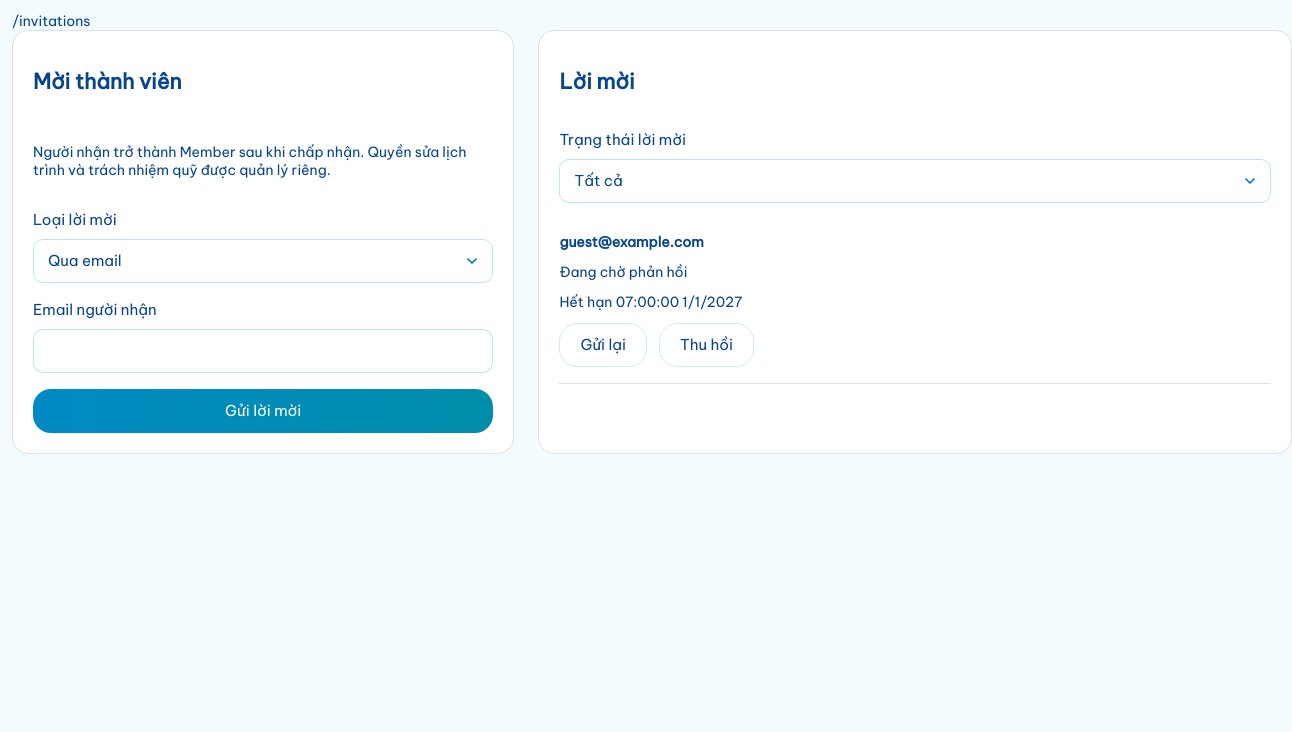
Test: Owner invitation management › retrying unknown creation retains the exact intent and reports an unrecoverable LINK
This screenshot has width=1292, height=732.
Select "Bằng liên kết" in the dropdown labelled "Loại lời mời" at coordinates (263, 261), box [33, 239, 493, 283]
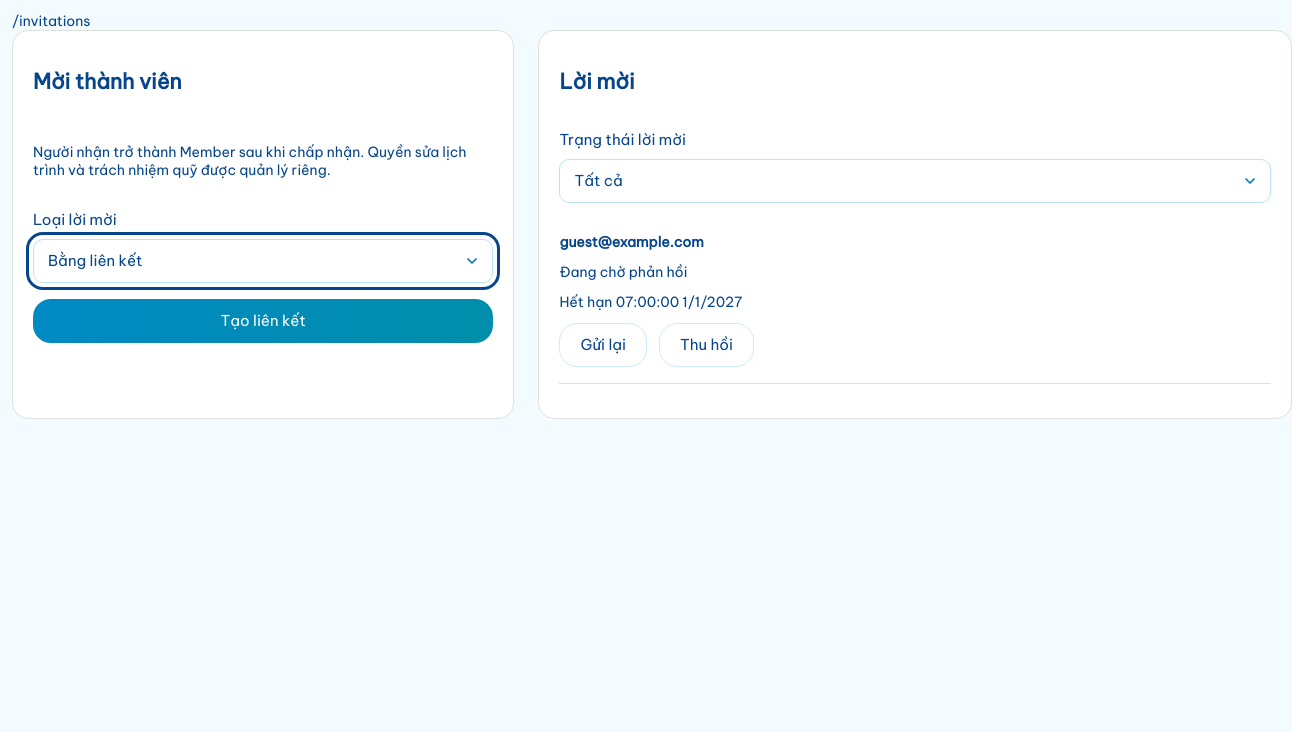
Click the button "Tạo liên kết" at coordinates (263, 321), box [33, 299, 493, 343]
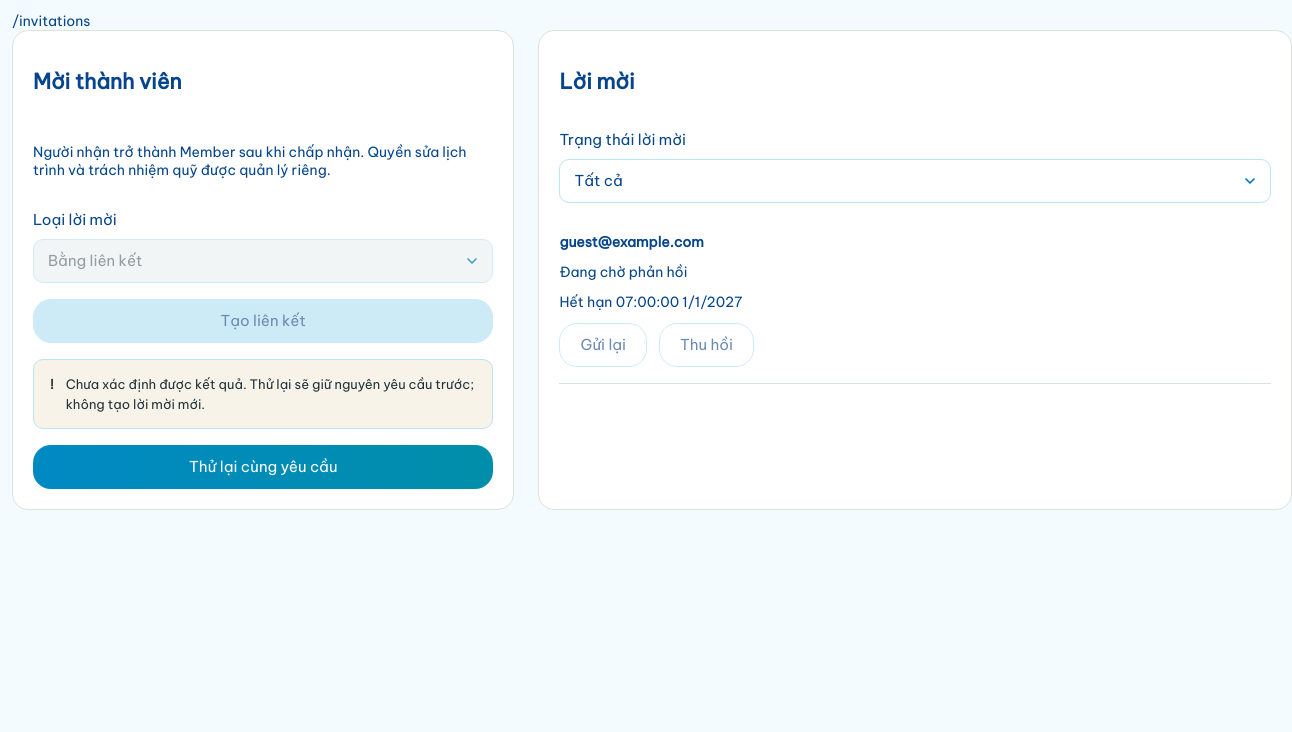
Click the button "Thử lại cùng yêu cầu" at coordinates (263, 467), box [33, 445, 493, 489]
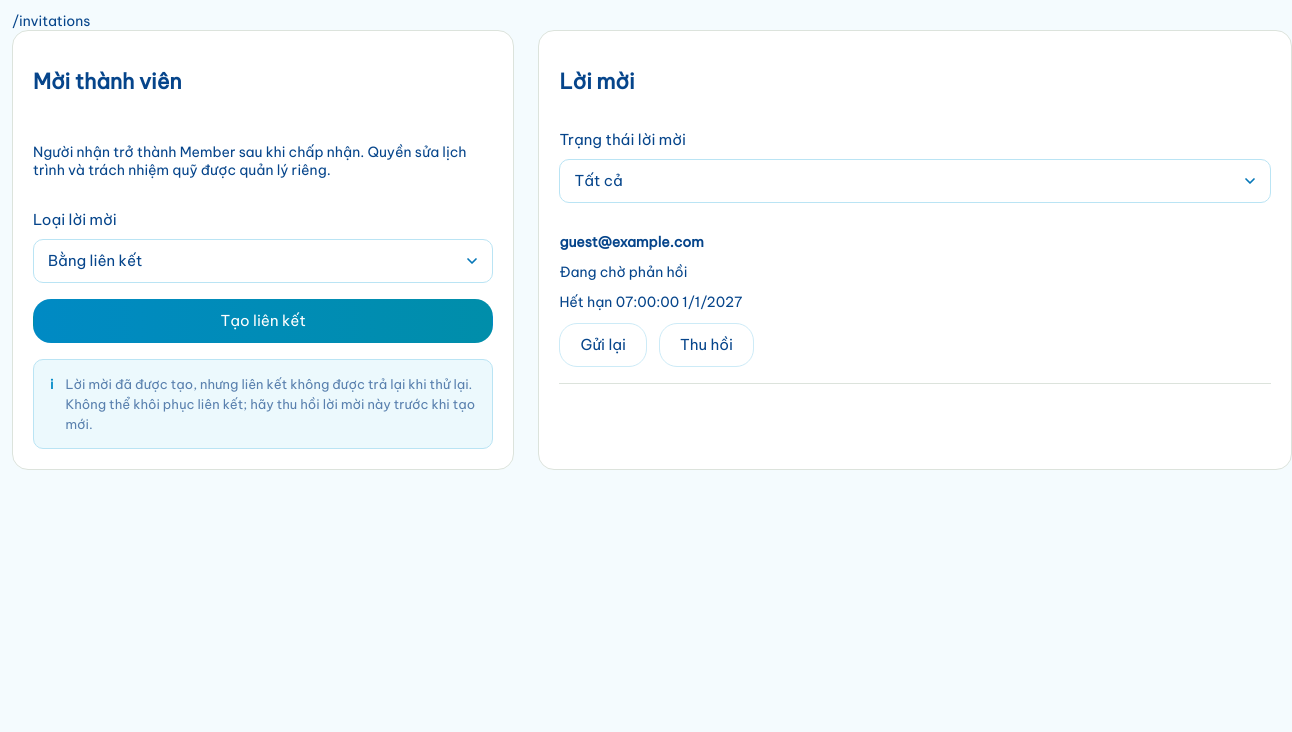
Expected: the text "Không thể khôi phục liên kết" is shown, [65, 376, 475, 432]
